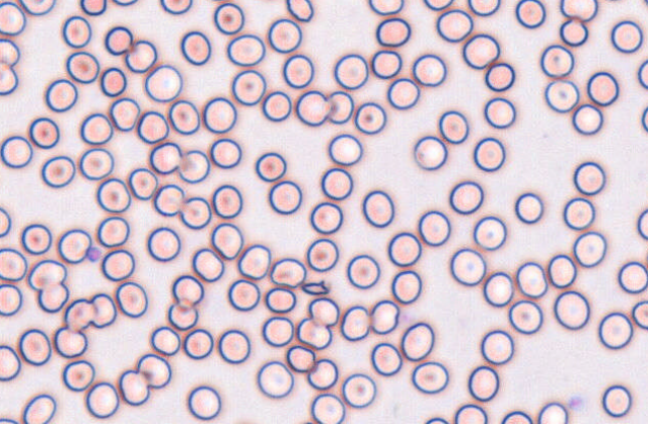PLT: (568, 394, 587, 413), (86, 247, 102, 263)
RBC: (553, 290, 590, 330), (256, 360, 294, 398), (144, 64, 182, 102), (449, 247, 486, 286), (462, 33, 500, 69), (400, 321, 434, 361), (598, 311, 633, 349), (84, 381, 119, 418), (202, 96, 237, 133), (361, 189, 394, 228), (226, 33, 265, 66), (341, 372, 376, 408), (295, 90, 330, 126), (333, 53, 368, 89), (231, 69, 266, 105), (96, 177, 131, 213), (27, 259, 66, 291), (136, 353, 171, 388), (508, 299, 543, 334), (267, 18, 302, 53), (146, 226, 181, 261), (346, 253, 380, 289), (237, 243, 271, 279), (411, 361, 448, 394), (436, 9, 473, 42), (18, 328, 51, 365), (115, 281, 148, 318), (210, 222, 243, 259), (187, 385, 221, 420), (413, 135, 447, 170), (387, 231, 421, 266), (480, 329, 514, 364), (57, 228, 91, 263), (573, 231, 606, 267), (540, 44, 574, 78), (449, 180, 483, 214), (268, 180, 302, 214), (191, 247, 224, 282), (544, 79, 579, 112), (473, 215, 506, 250), (79, 147, 114, 180), (586, 71, 619, 106), (100, 248, 135, 281), (296, 317, 332, 349), (118, 369, 150, 405), (467, 365, 499, 401), (418, 210, 450, 246), (516, 261, 547, 298), (269, 257, 306, 288), (124, 39, 157, 73), (177, 149, 210, 183), (412, 53, 446, 86), (309, 201, 343, 234), (136, 110, 169, 144), (79, 112, 113, 145), (41, 155, 75, 188), (306, 237, 338, 272), (473, 136, 505, 171), (168, 99, 200, 134), (483, 271, 514, 307), (340, 304, 370, 341), (149, 141, 182, 174), (0, 135, 33, 168), (227, 278, 260, 311), (320, 167, 353, 200), (610, 20, 643, 53), (53, 326, 87, 358), (370, 342, 402, 376), (218, 329, 250, 363), (386, 77, 420, 109), (65, 51, 99, 83), (282, 54, 314, 88), (328, 133, 362, 165), (573, 161, 605, 195), (45, 78, 77, 112), (180, 30, 211, 65), (171, 274, 204, 306), (62, 359, 95, 391), (179, 196, 211, 229), (354, 101, 386, 134), (563, 197, 595, 230), (64, 298, 95, 332), (391, 270, 422, 304), (109, 97, 140, 131), (438, 110, 469, 144), (310, 393, 345, 423), (369, 299, 399, 334), (375, 17, 410, 47), (37, 281, 69, 313), (306, 358, 338, 390), (261, 316, 294, 347), (153, 183, 184, 216), (127, 167, 158, 200), (601, 384, 632, 417), (22, 393, 56, 423), (547, 254, 577, 288), (212, 184, 242, 218), (89, 292, 117, 328), (572, 103, 603, 135), (483, 97, 515, 128), (254, 151, 286, 182), (213, 2, 244, 34), (97, 216, 129, 247), (28, 117, 59, 149), (61, 15, 91, 48), (21, 223, 52, 254), (617, 261, 647, 293), (370, 49, 402, 79), (209, 138, 241, 168), (308, 297, 339, 327), (150, 325, 180, 356), (183, 328, 213, 359), (261, 90, 291, 121), (514, 192, 543, 224), (0, 247, 27, 281), (327, 90, 354, 124), (484, 62, 515, 91), (0, 1, 26, 35), (104, 25, 133, 55), (167, 302, 198, 330), (515, 0, 546, 28), (559, 17, 588, 46), (100, 66, 127, 97), (559, 0, 598, 21), (265, 287, 296, 313), (286, 345, 315, 372), (0, 344, 21, 381), (0, 283, 22, 316), (537, 401, 568, 423), (454, 403, 487, 423), (0, 62, 18, 95), (286, 0, 313, 21), (0, 38, 20, 66), (19, 0, 56, 15), (467, 0, 500, 16), (368, 0, 403, 15), (631, 300, 647, 329), (159, 0, 192, 14), (500, 410, 532, 423), (80, 0, 106, 15), (0, 206, 11, 237), (637, 208, 647, 240), (637, 58, 647, 89), (423, 0, 453, 10), (424, 416, 449, 423), (641, 105, 647, 132), (111, 0, 138, 6), (0, 417, 19, 423), (204, 0, 234, 3), (604, 0, 628, 1)
Schistocyte: (302, 279, 330, 295)
